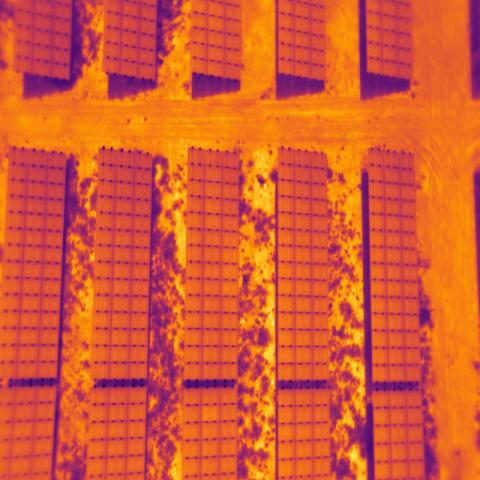fault: (201, 404, 221, 425)
